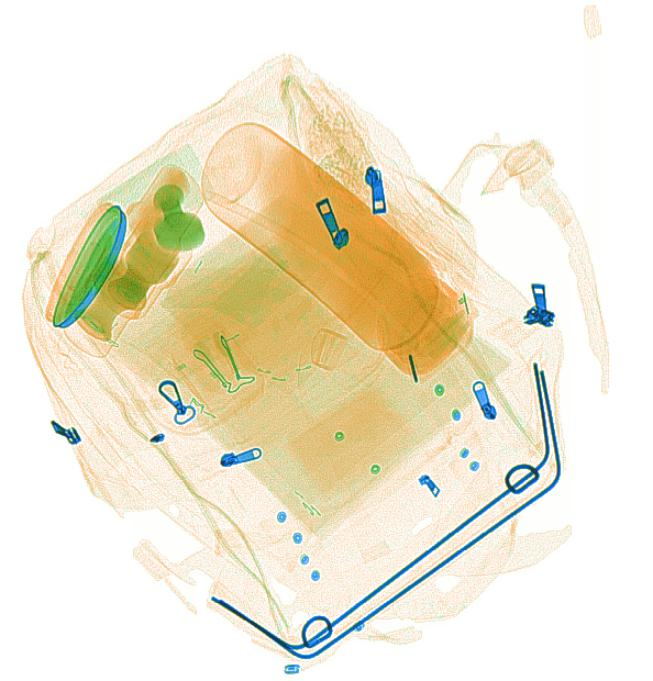seal: (94, 216, 192, 320), (61, 254, 155, 357), (150, 183, 205, 253)
